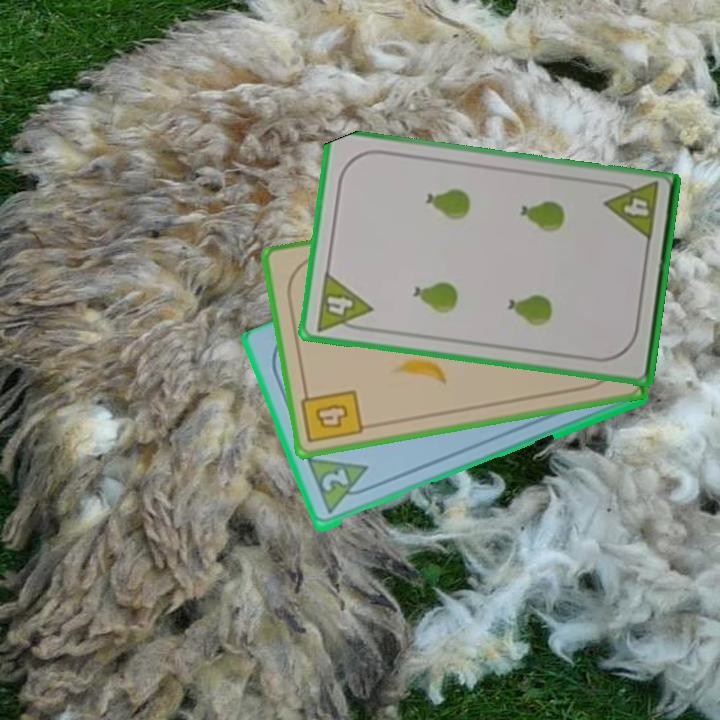2p: (317, 465, 351, 495)
4b: (298, 384, 366, 446)
4p: (312, 269, 375, 335), (601, 178, 662, 245)
